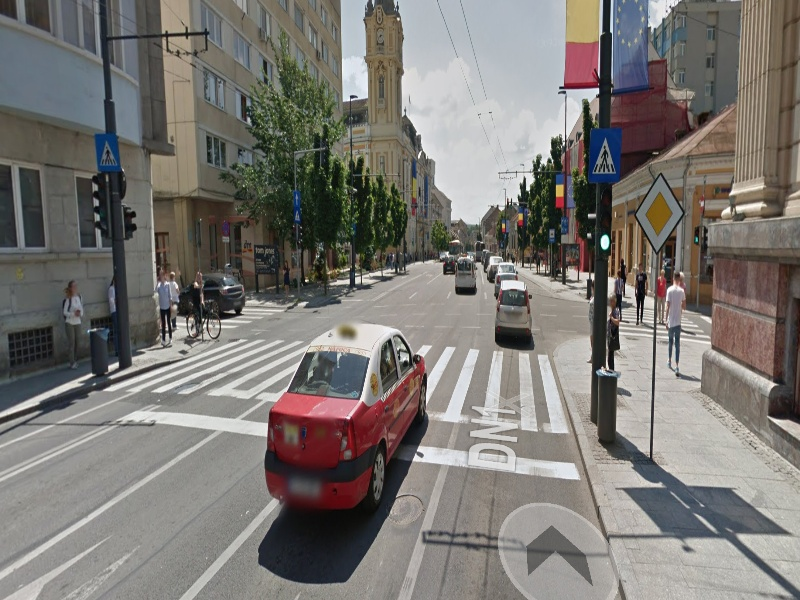crosswalk: (83, 334, 583, 484), (611, 298, 717, 345), (157, 302, 287, 334)
crosswalk_sign: (586, 128, 621, 184), (93, 130, 124, 172)
pedestrian: (182, 270, 223, 343), (662, 272, 687, 379), (61, 281, 88, 369), (155, 271, 175, 349), (605, 292, 623, 372), (633, 261, 648, 325), (584, 279, 593, 360)
semaphore: (88, 169, 115, 239), (593, 183, 614, 264)
